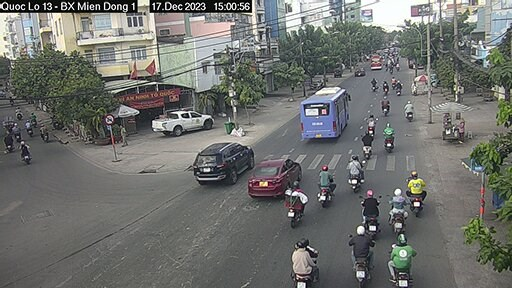bus: (298, 79, 346, 148)
car: (147, 100, 225, 142), (200, 135, 252, 194), (250, 154, 298, 207)
motorbike: (348, 224, 386, 288), (287, 236, 325, 288), (358, 180, 380, 225), (284, 181, 310, 219), (385, 189, 410, 226), (393, 233, 411, 284), (348, 149, 366, 196), (319, 160, 343, 192), (408, 171, 425, 215)
